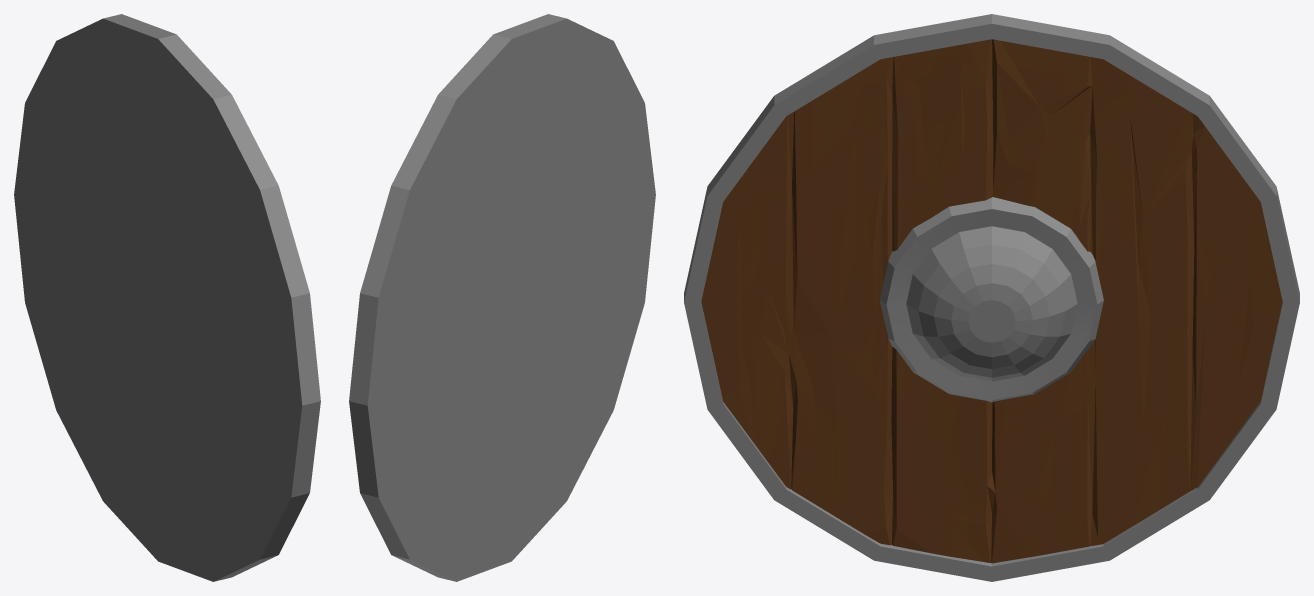
Rendered from shield.glb.
3 views of the same model, side by side, from view 1: azimuth 30°, elevation 25°; view 2: azimuth 150°, elevation 25°; view 3: azimuth 270°, elevation 25° (orthographic). The views are drawn at different scales.
Parts seen in each view (by area): view 1: Shield 1; view 2: Shield 1; view 3: Shield 1.
Boxes of the visible parts, x1=… form: Shield 1: x1=14, y1=14, x2=320, y2=581; Shield 1: x1=349, y1=14, x2=655, y2=581; Shield 1: x1=684, y1=14, x2=1299, y2=581.
Bounding box in the file's own units: 0.1861 × 1.71 × 1.71.
